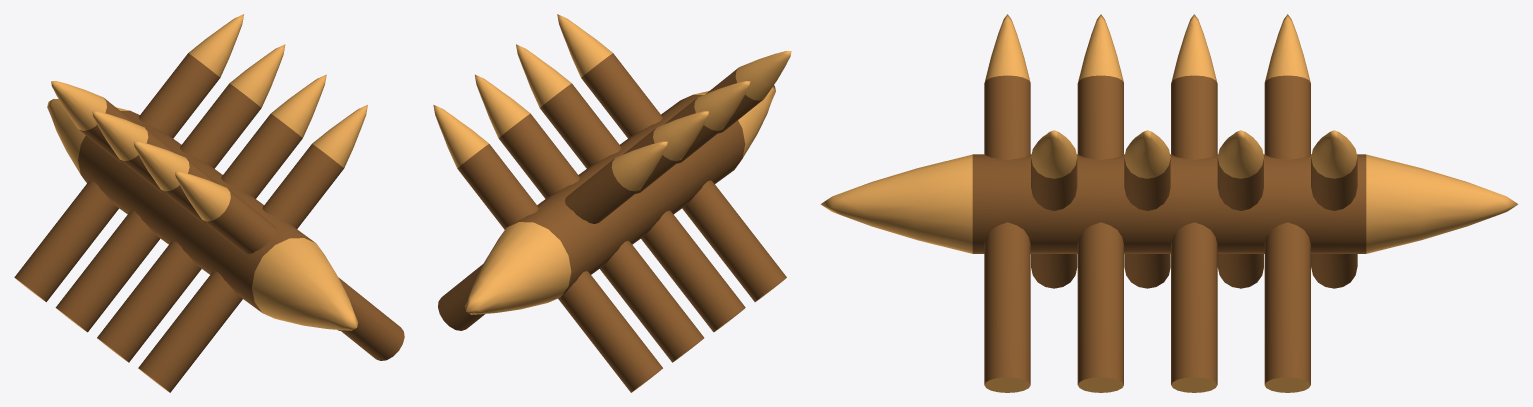
Rendered from juma.FBX.
3 renders of one model, left to right at view 1: azimuth 30°, elevation 25°; view 2: azimuth 150°, elevation 25°; view 3: azimuth 270°, elevation 25°, orthographic. The views are drawn at different scales.
Parts seen in each view (by area): view 1: 拒马; view 2: 拒马; view 3: 拒马.
Part boxes in pixels (x1,y1,x2,y2): 拒马: (14, 14, 404, 392); 拒马: (433, 14, 791, 392); 拒马: (820, 14, 1518, 392).
Bounding box in the file's own units: 124 × 117 × 277.
